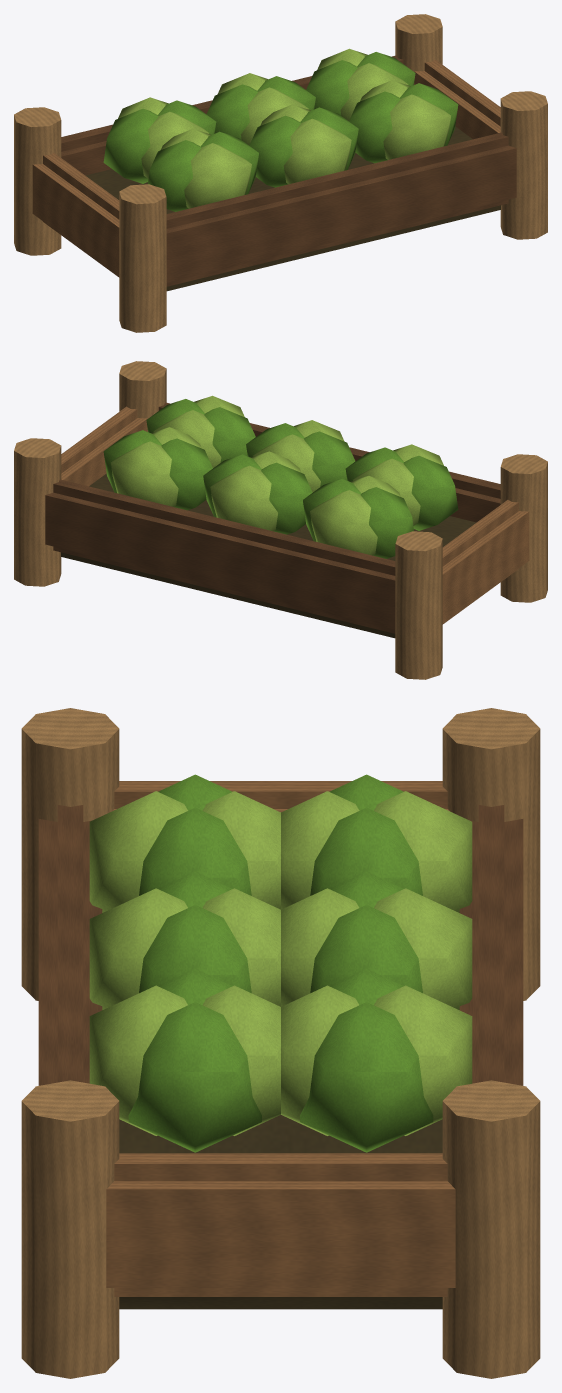
The model's file is planter-2.fbx.
3 renders of one model, top to bottom at view 1: azimuth 30°, elevation 25°; view 2: azimuth 150°, elevation 25°; view 3: azimuth 270°, elevation 25°, orthographic. The views are drawn at different scales.
Visible parts, largest first — view 1: planter-2__Geometry; view 2: planter-2__Geometry; view 3: planter-2__Geometry.
Part boxes in pixels (left/top/right/bottom): planter-2__Geometry: left=14, top=14, right=547, bottom=332; planter-2__Geometry: left=14, top=361, right=547, bottom=679; planter-2__Geometry: left=21, top=708, right=540, bottom=1378.
Size of the model in its own units: 2 by 0.64 by 1.06.
